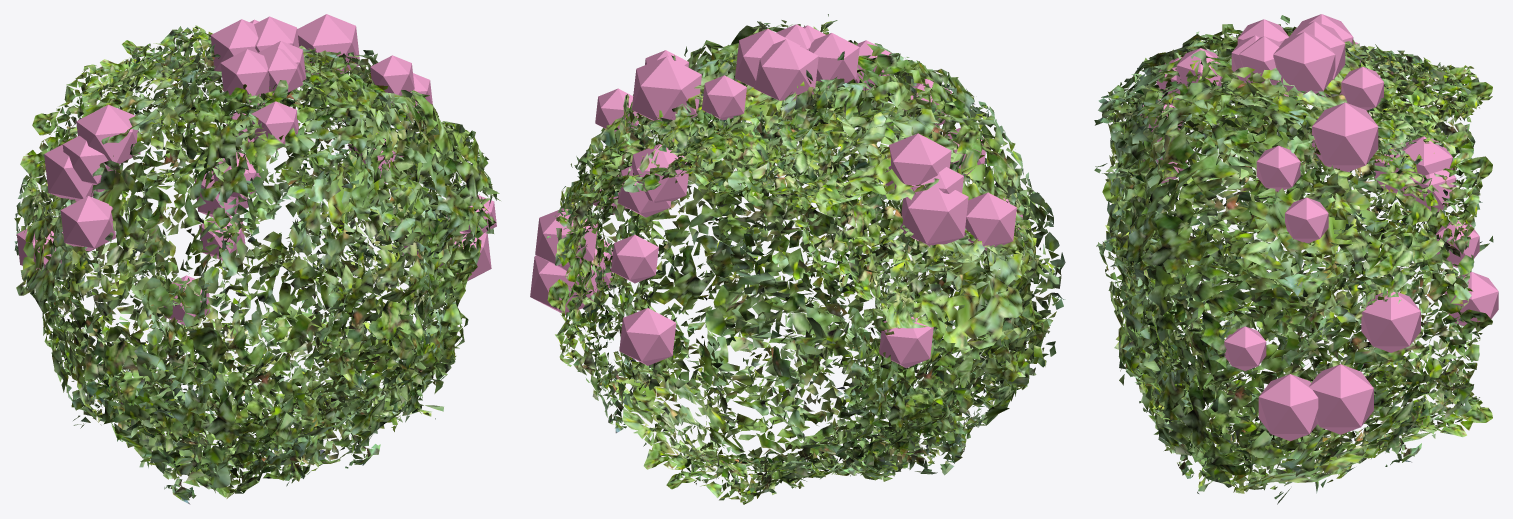
The model's file is rhodie_bush.glb.
3 views of the same model, side by side, from view 1: azimuth 30°, elevation 25°; view 2: azimuth 150°, elevation 25°; view 3: azimuth 270°, elevation 25° (orthographic). The views are drawn at different scales.
Size of the model in its own units: 1.08 by 0.9952 by 0.8183.
2 materials, 1 textured.
